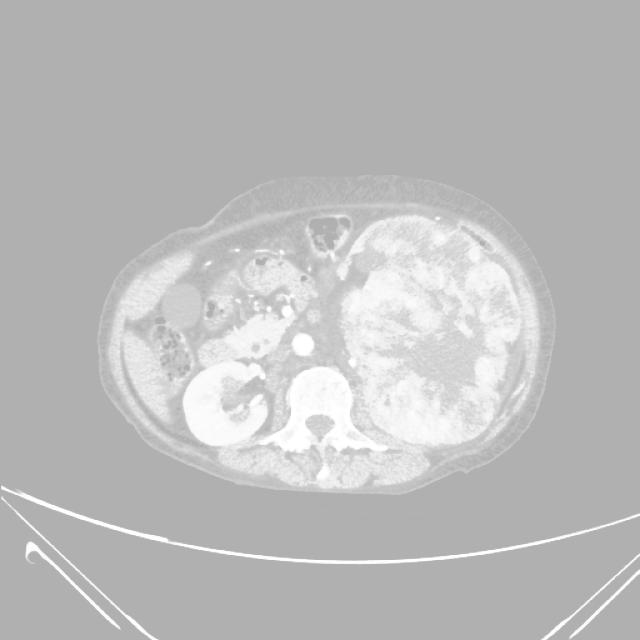TUMOR: (96, 239, 484, 444)
